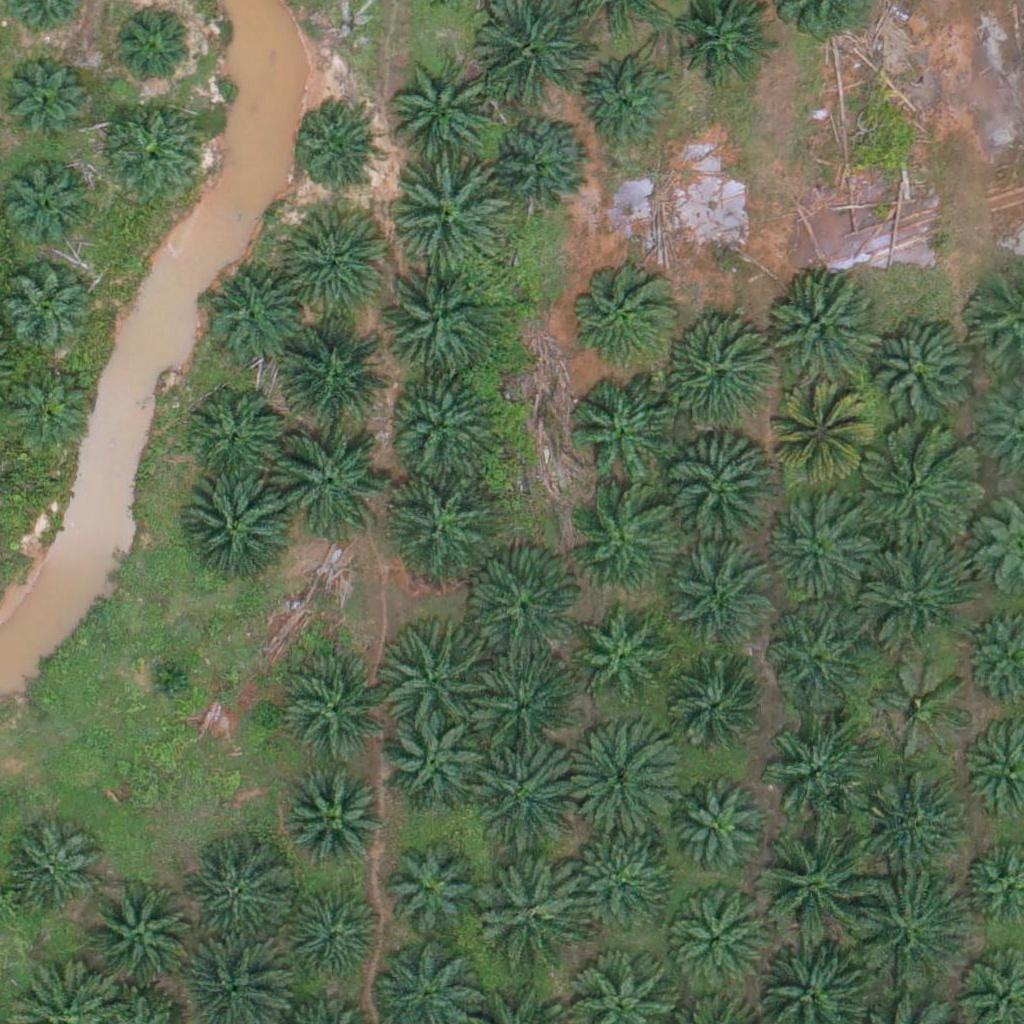Kelapa_Sawit: (563, 721, 676, 835), (472, 737, 585, 851), (389, 364, 502, 478), (380, 269, 493, 383), (278, 205, 391, 319), (853, 762, 966, 875), (857, 542, 970, 655), (861, 430, 974, 543), (755, 831, 868, 944), (664, 437, 777, 550), (566, 379, 679, 492), (477, 855, 590, 968), (177, 476, 290, 589), (860, 318, 973, 431), (853, 876, 965, 990), (569, 484, 681, 598), (567, 256, 679, 370), (277, 313, 389, 427), (761, 710, 873, 823), (470, 559, 582, 672), (381, 467, 493, 580), (381, 615, 493, 728), (269, 424, 381, 537), (83, 878, 195, 991), (763, 275, 875, 388), (653, 319, 765, 432), (391, 46, 503, 159), (395, 160, 507, 273), (762, 496, 862, 597), (764, 608, 864, 709), (670, 553, 770, 654), (665, 893, 765, 994), (571, 608, 671, 709), (382, 843, 482, 944), (383, 713, 483, 814), (184, 386, 284, 487), (487, 113, 587, 214), (103, 98, 203, 199), (203, 266, 303, 367), (873, 658, 973, 758), (768, 390, 868, 490), (662, 667, 762, 767), (573, 840, 673, 940), (473, 656, 573, 756), (284, 664, 384, 764), (285, 773, 385, 873), (285, 889, 385, 989), (187, 849, 287, 949), (576, 59, 676, 159), (675, 787, 763, 876), (6, 363, 94, 451), (291, 99, 378, 187), (110, 1, 197, 89), (4, 271, 91, 359), (142, 651, 192, 702)
